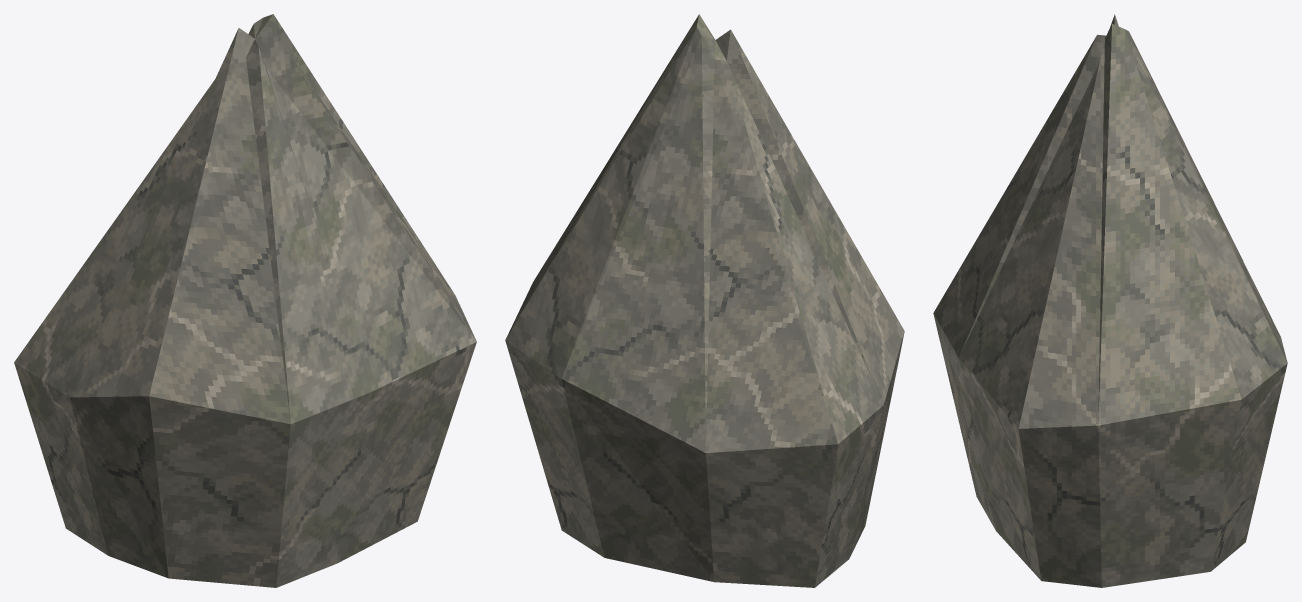
Rendered from Masso_09_Piramidale.obj.
3 renders of one model, left to right at view 1: azimuth 30°, elevation 25°; view 2: azimuth 150°, elevation 25°; view 3: azimuth 270°, elevation 25°, orthographic.
Visible parts, largest first — view 1: Masso_09_Piramidale; view 2: Masso_09_Piramidale; view 3: Masso_09_Piramidale.
Boxes of the visible parts, bbox=[...] form: Masso_09_Piramidale: bbox=[14, 14, 476, 587]; Masso_09_Piramidale: bbox=[505, 14, 904, 587]; Masso_09_Piramidale: bbox=[933, 14, 1287, 587].
Bounding box in the file's own units: 1.7 × 2.2 × 1.4.
1 material, 1 textured.
